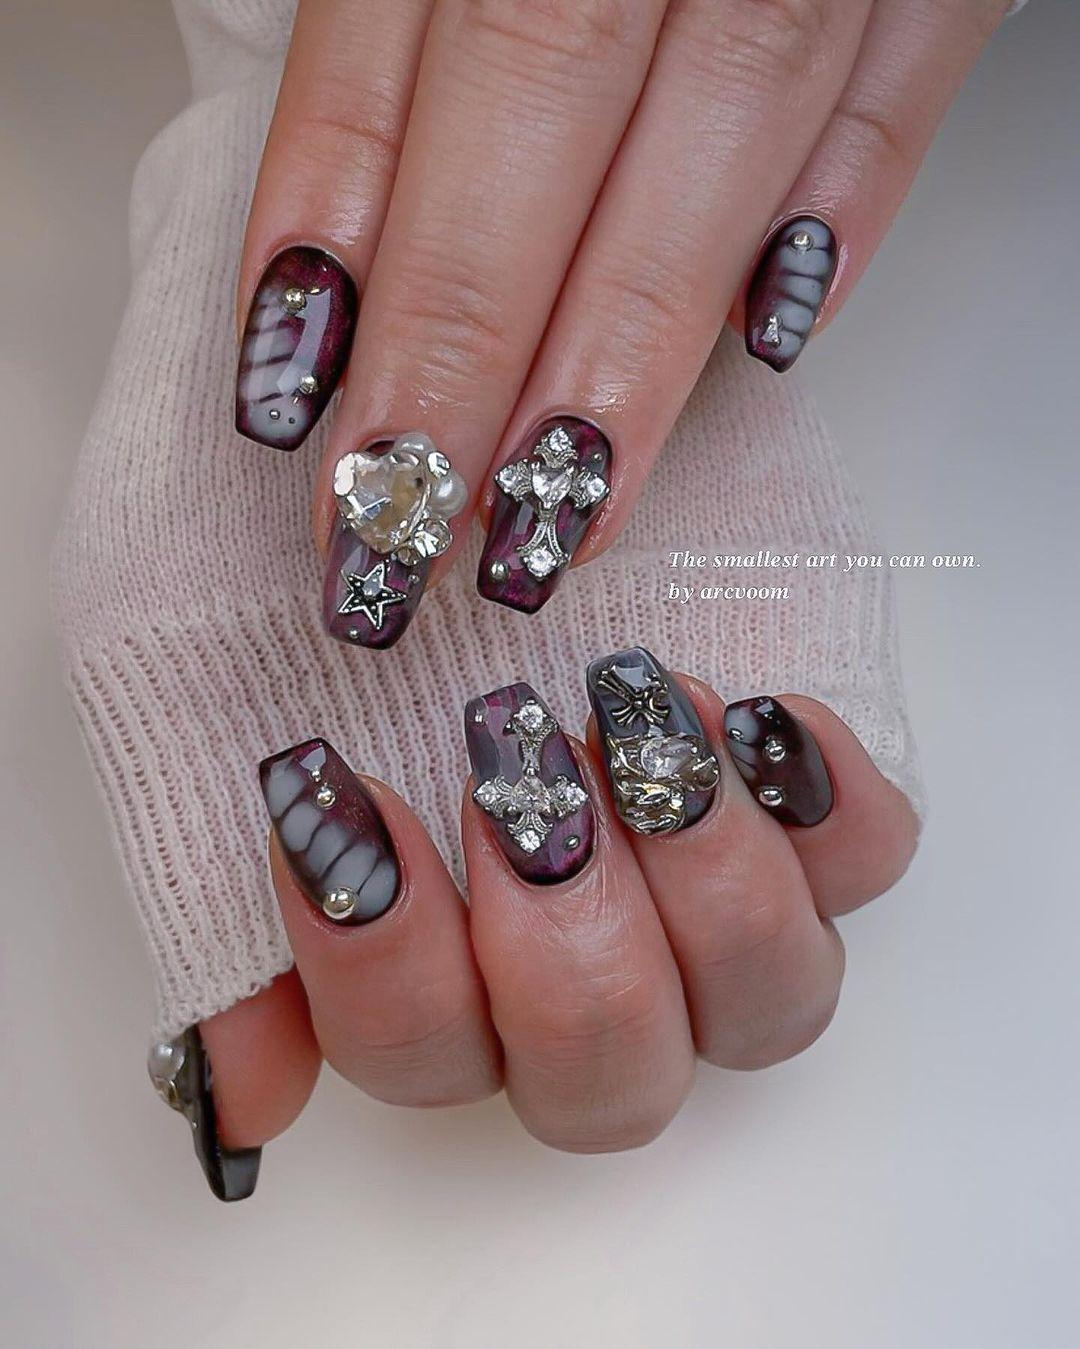nail: (318, 429, 468, 649), (256, 735, 403, 926), (461, 680, 596, 886), (475, 412, 613, 615), (584, 644, 720, 839), (233, 241, 358, 451), (145, 1019, 261, 1202), (742, 212, 838, 373), (721, 693, 834, 828)
